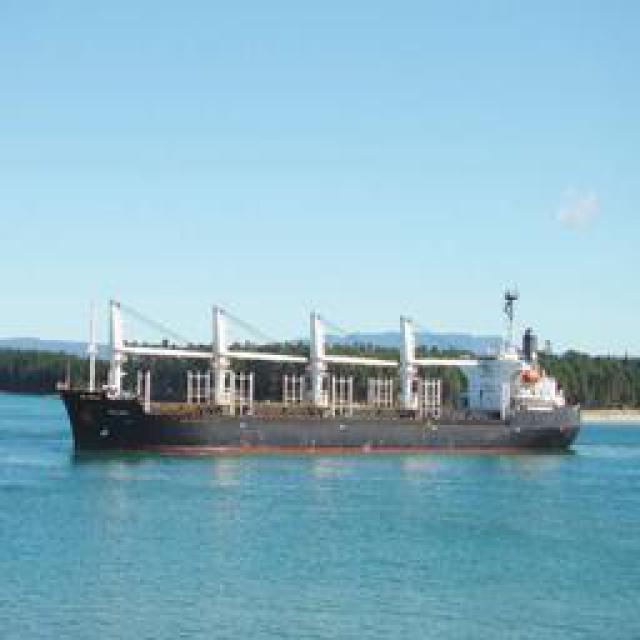Ship: (50, 293, 575, 458)
